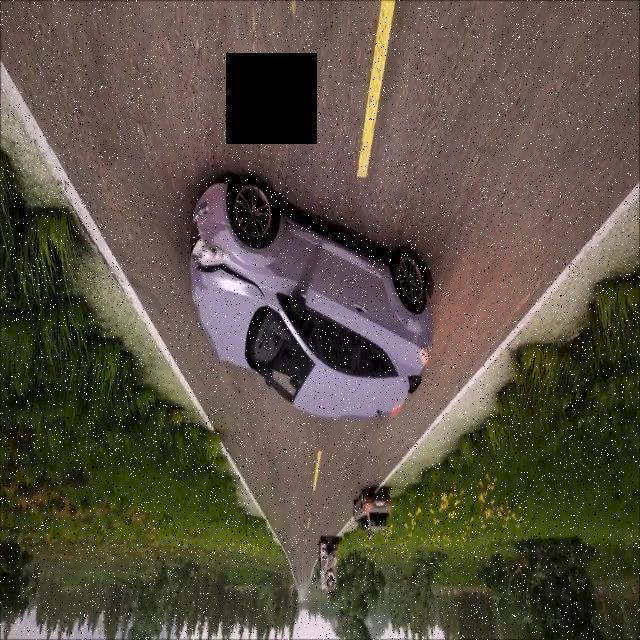vehicle: (167, 171, 493, 425)
